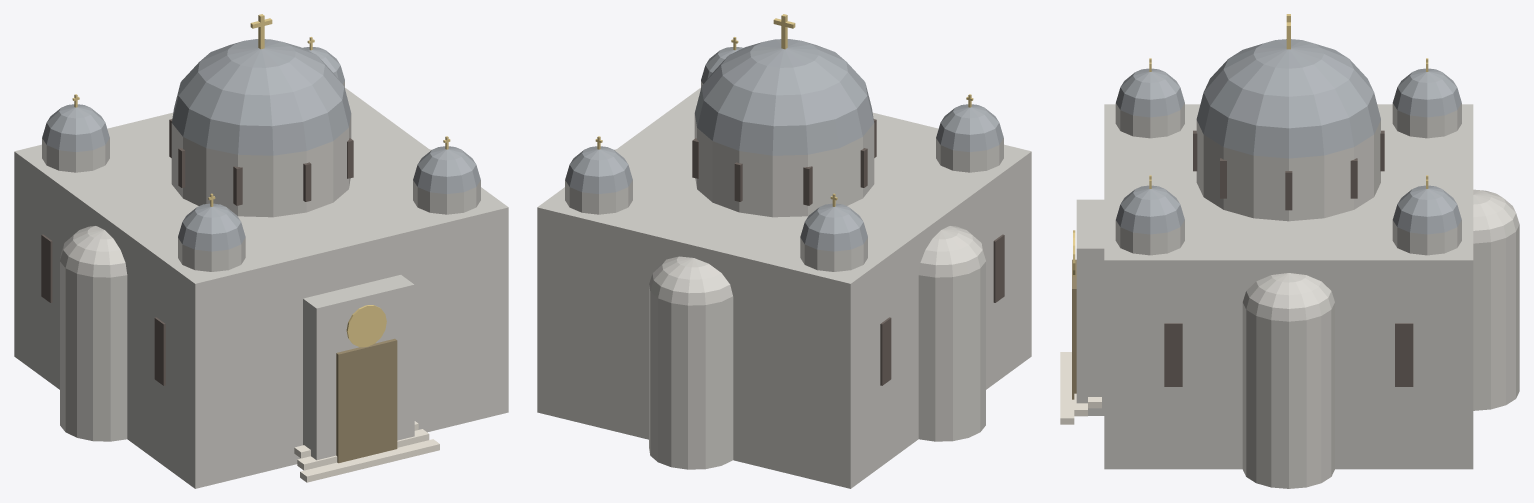
The model's file is Temple_Byzantine.fbx.
3 renders of one model, left to right at view 1: azimuth 30°, elevation 25°; view 2: azimuth 150°, elevation 25°; view 3: azimuth 270°, elevation 25°, orthographic.
Parts seen in each view (by area): view 1: Temple_Byzantine_Mesh; view 2: Temple_Byzantine_Mesh; view 3: Temple_Byzantine_Mesh.
Part boxes in pixels (x1,y1,x2,y2): Temple_Byzantine_Mesh: (14, 14, 508, 488); Temple_Byzantine_Mesh: (537, 14, 1031, 488); Temple_Byzantine_Mesh: (1060, 14, 1519, 488).
Size of the model in its own units: 10 by 9 by 9.95.
